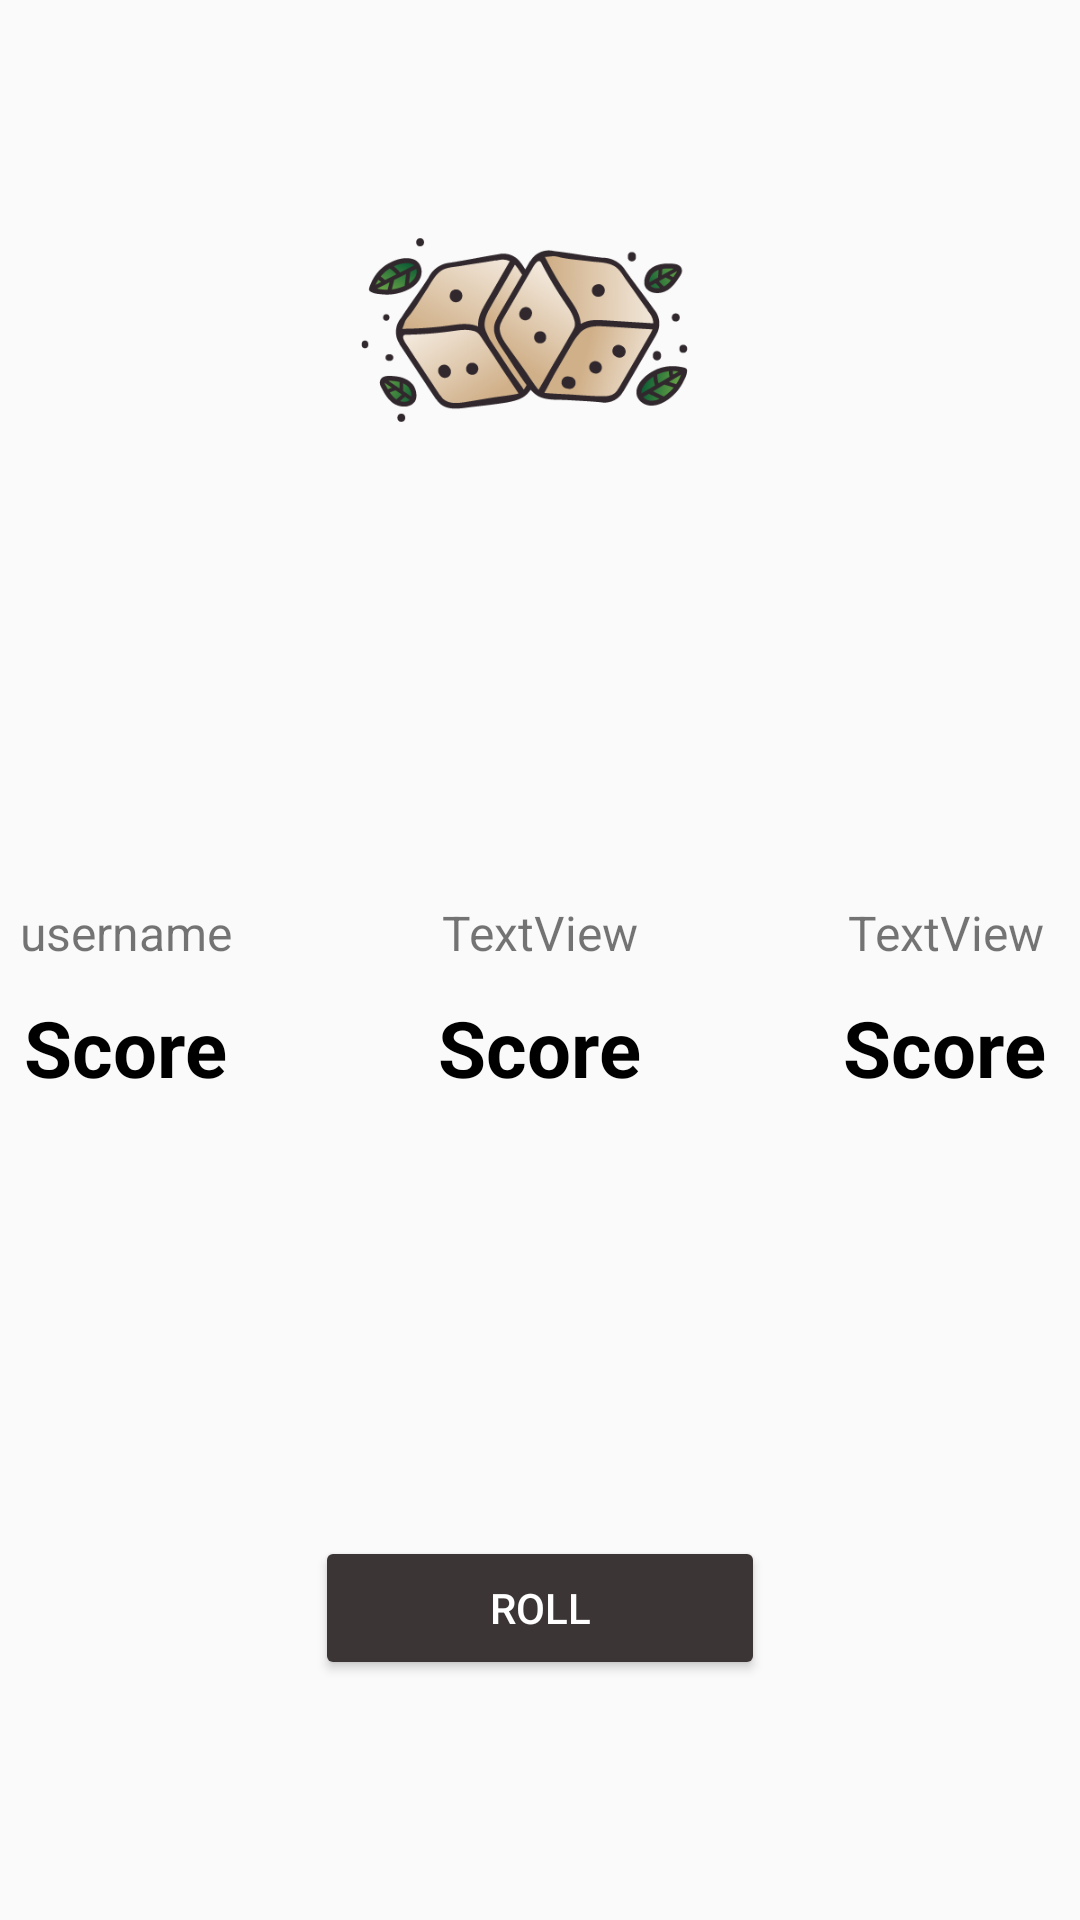

Point at icon controls on the screen. Image size 1080 × 1920, points as [x,y].
dadu: [524,330]
